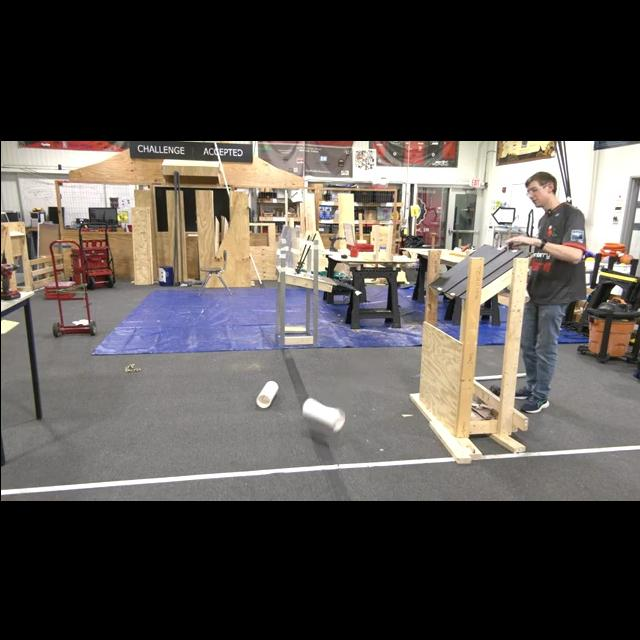CORAL: (300, 395, 344, 435), (254, 378, 278, 407)
